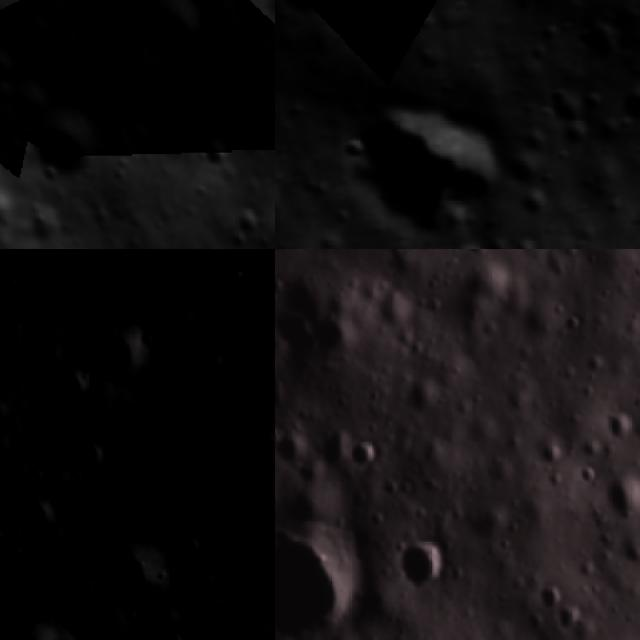crater: (316, 72, 529, 249), (275, 522, 338, 635), (121, 0, 216, 70), (28, 107, 108, 189), (94, 549, 174, 611), (386, 531, 454, 597), (562, 13, 628, 80), (96, 321, 152, 385), (215, 192, 269, 249), (1, 72, 57, 125), (194, 122, 248, 175), (603, 71, 640, 139), (0, 34, 31, 85), (73, 434, 114, 472), (602, 475, 640, 516), (347, 435, 384, 474), (23, 498, 56, 540), (275, 168, 292, 239), (54, 371, 84, 410), (620, 197, 640, 249), (182, 535, 202, 563), (160, 627, 194, 640)
